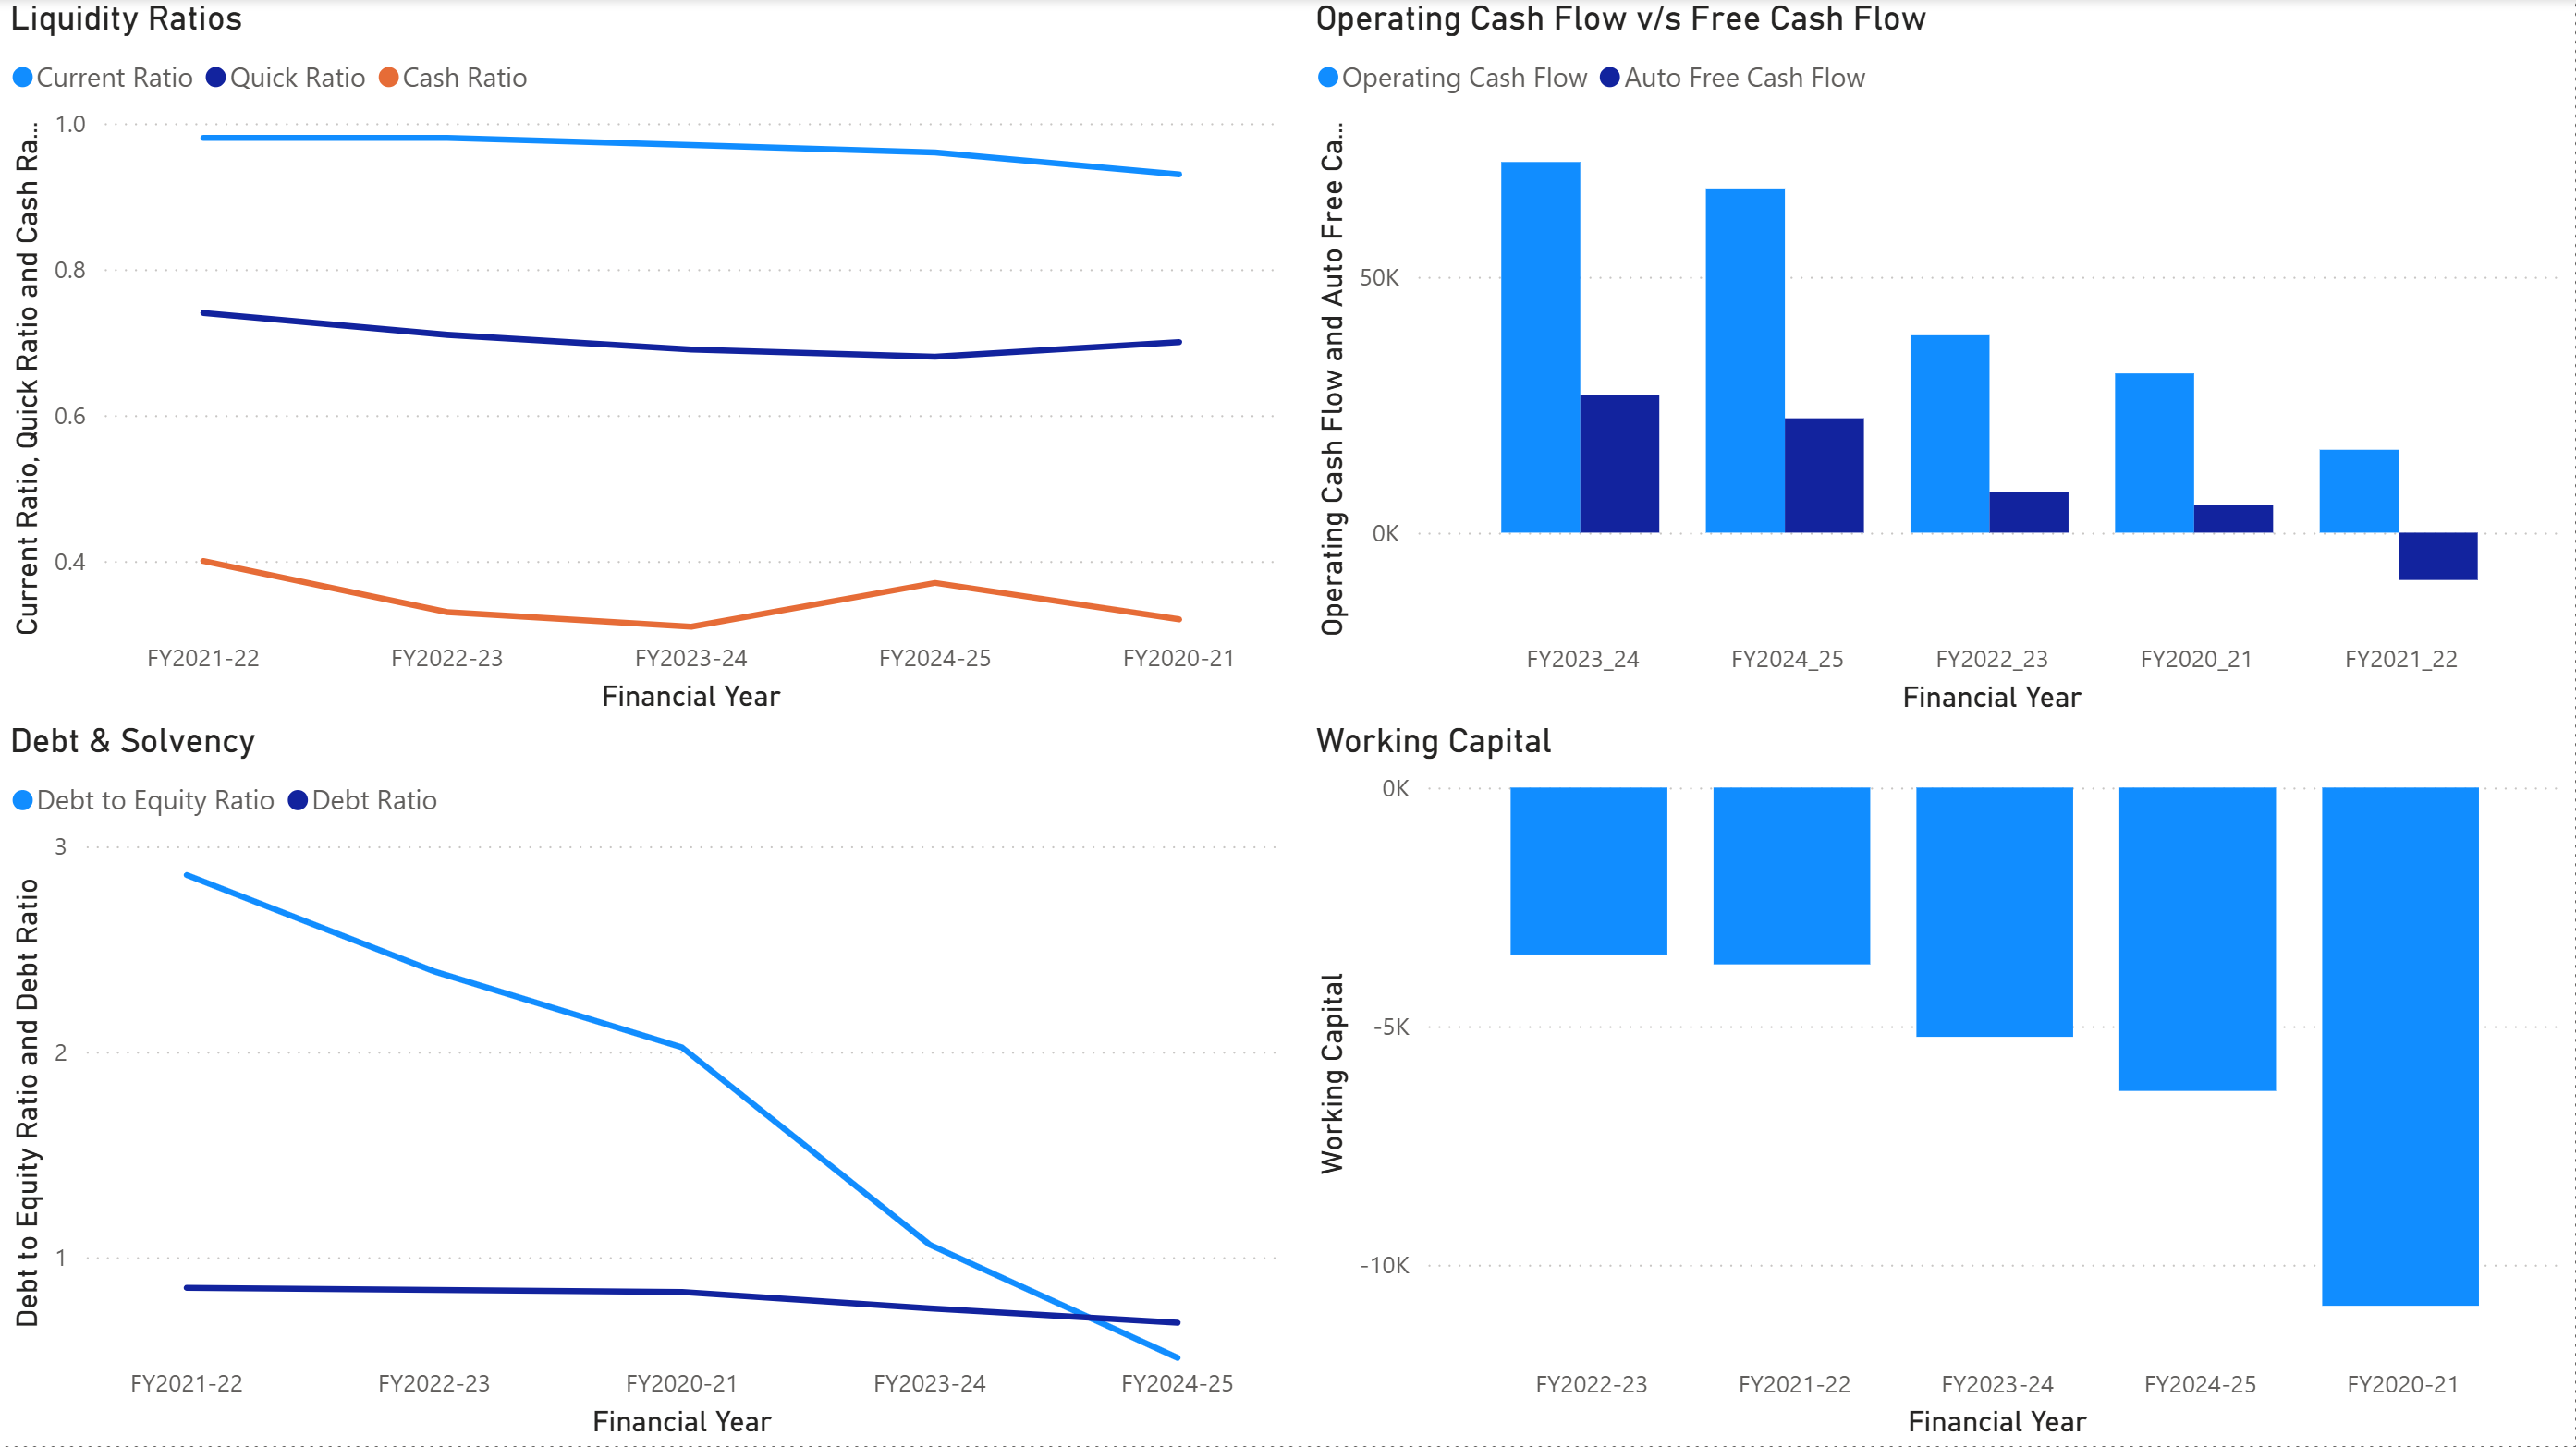

This screenshot's page, from the dashboard's own definition file:
{"tool":"powerbi","page":{"name":"Liquidity Debt Cash Flow","canvas":[1280,720],"ordinal":2},"visuals":[{"type":"lineChart","title":"Liquidity Ratios","fields":{"Category":["Balance Sheet.financial_year"],"Y":["Sum(Financial Ratios.current_ratio)","Sum(Financial Ratios.quick_ratio)","Sum(Financial Ratios.cash_ratio)"]},"box":[0,0,639.5,359.5],"z":0},{"type":"lineChart","title":"Debt & Solvency","fields":{"Category":["Balance Sheet.financial_year"],"Y":["Sum(Financial Ratios.debt_to_equity_ratio)","Sum(Financial Ratios.debt_ratio)"]},"box":[0,359.5,639.5,360.9],"z":1000},{"type":"clusteredColumnChart","title":"Operating Cash Flow v/s Free Cash Flow","fields":{"Y":["Sum(Cash Flow Statement.cash_generated_from_operations)","Sum(Cash Flow Statement.auto_free_cash_flow)"],"Category":["Cash Flow Statement.financial_year"]},"box":[649,0,631,360],"z":2000},{"type":"columnChart","title":"Working Capital","fields":{"Y":["Sum(Financial Ratios.working_capital_cr)"],"Category":["Financial Ratios.financial_year"]},"box":[649.1,359.5,631.2,360.9],"z":3000}]}

Visuals, with their boxes in screenshot pixels (x1, y1, x2, y2), scaled from the page's 1280x720 canvas onto the 2576x1447 screenshot:
"Liquidity Ratios" lineChart: 0 0 1287 723
"Debt & Solvency" lineChart: 0 723 1287 1446
"Operating Cash Flow v/s Free Cash Flow" clusteredColumnChart: 1306 0 2575 723
"Working Capital" columnChart: 1306 723 2575 1446
